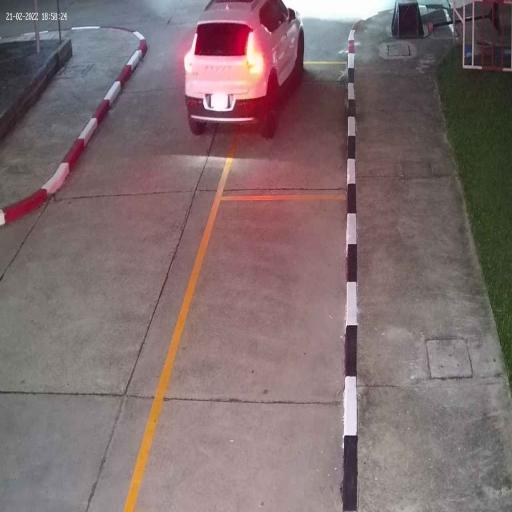car: (182, 0, 306, 140)
